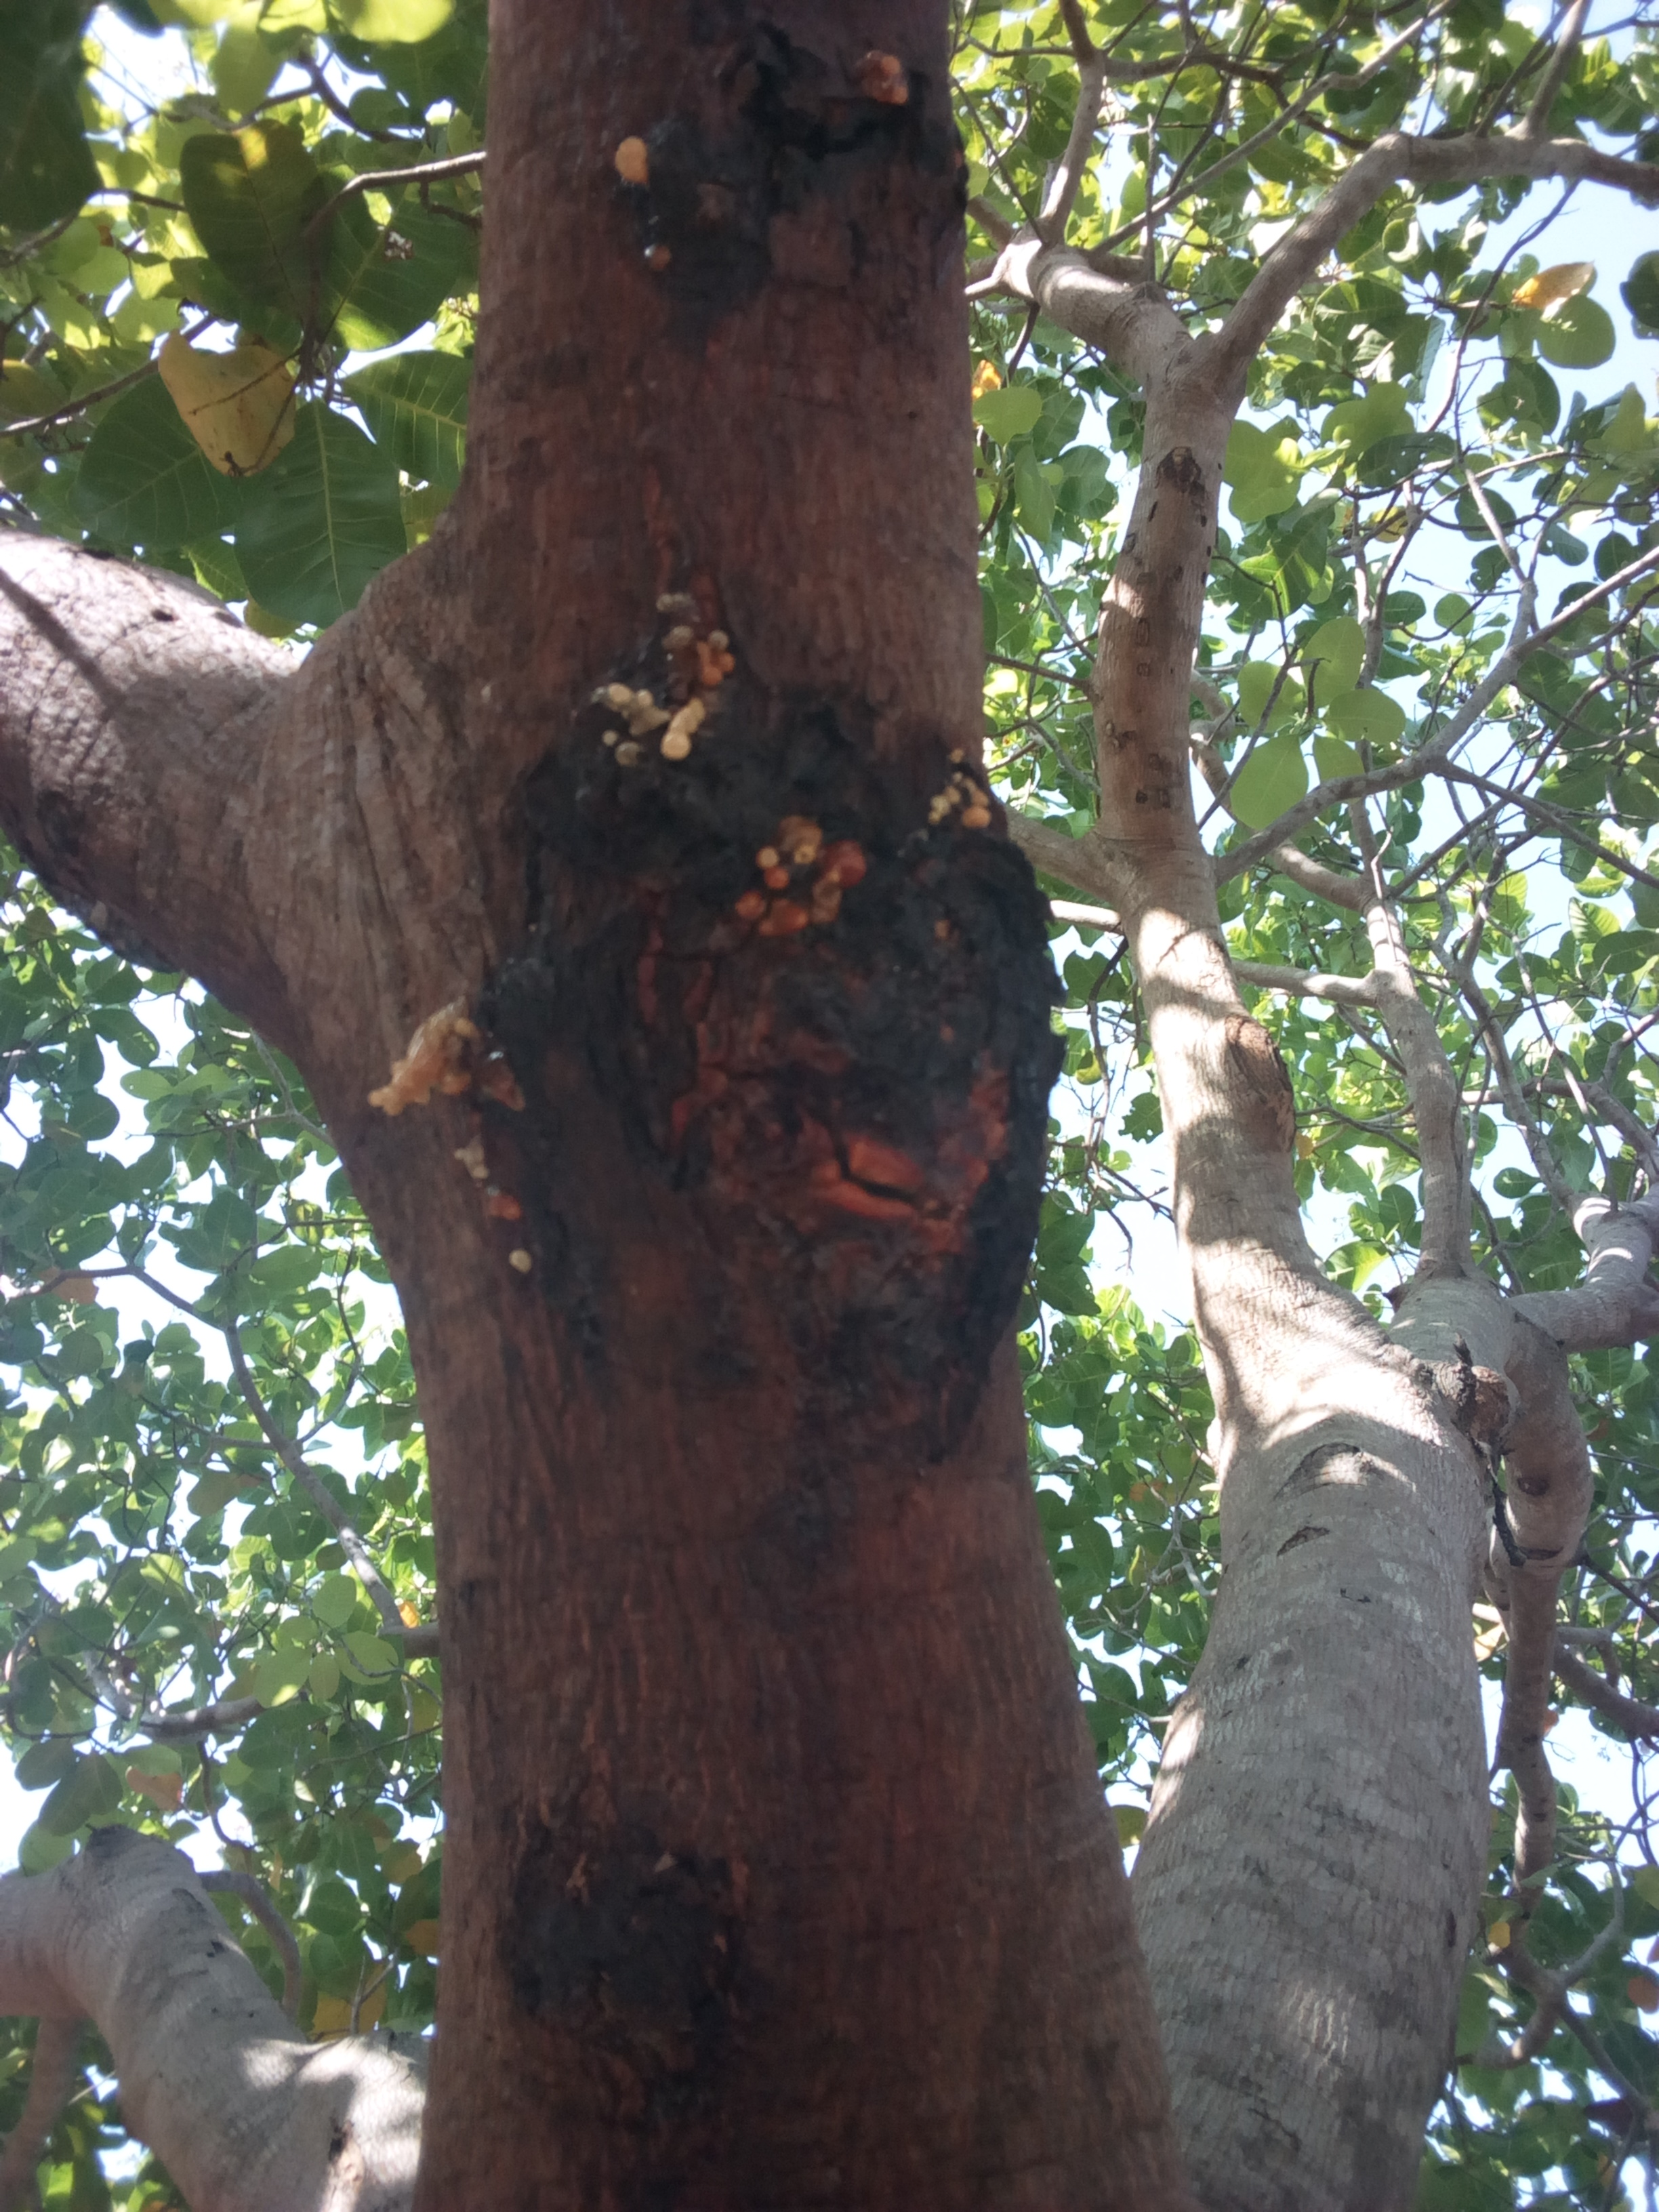Gommose: (497, 648, 1073, 1465)
